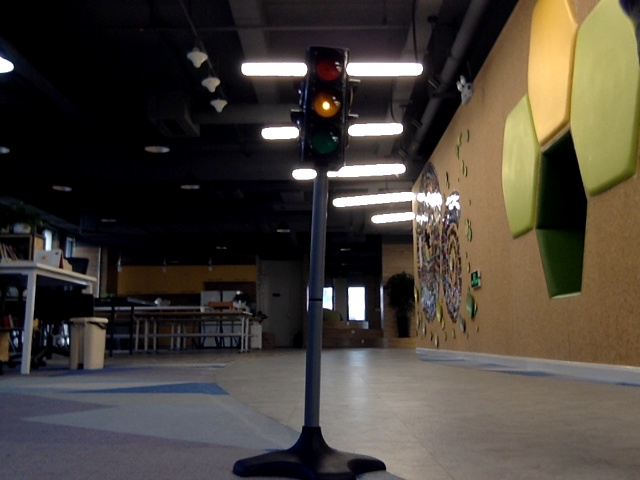yellow: (304, 52, 342, 159)
